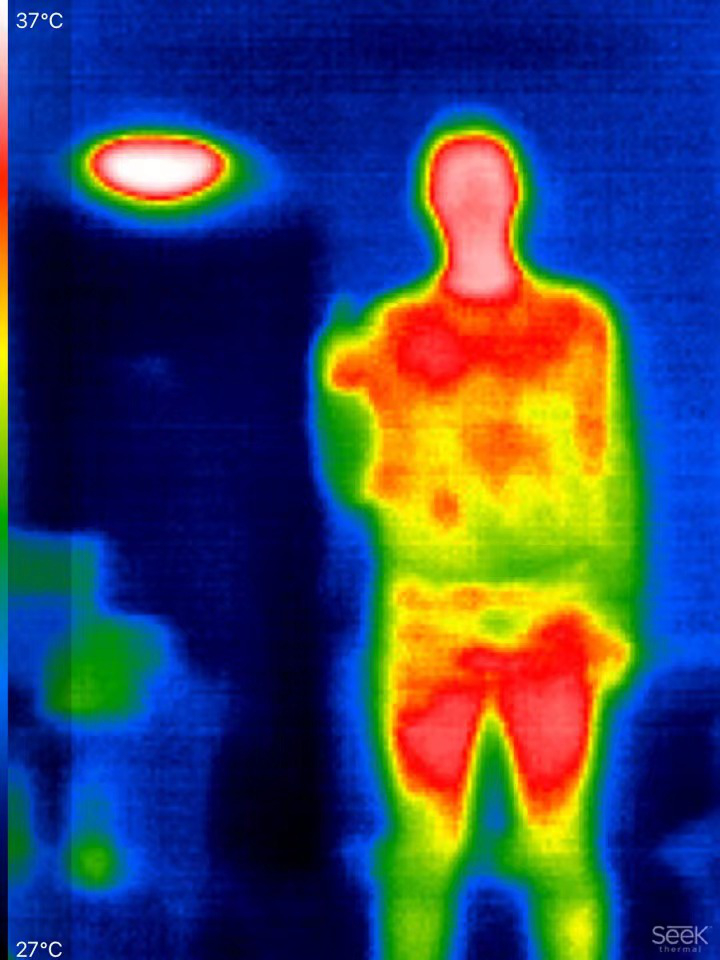Near: (308, 114, 653, 960)
